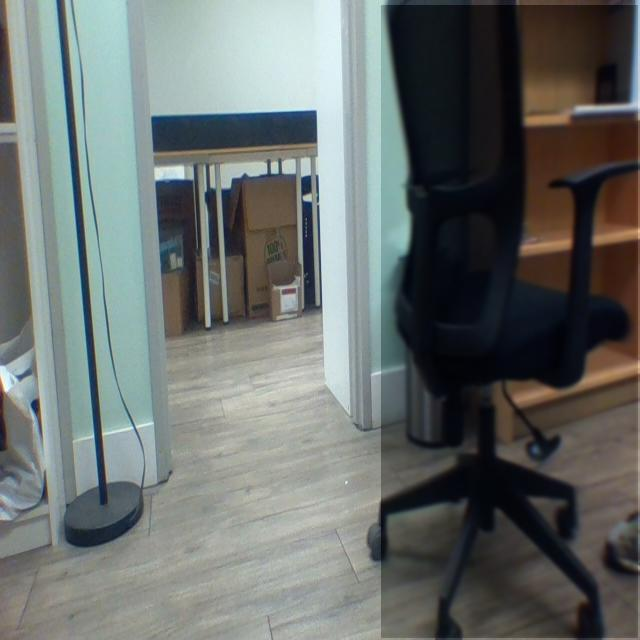black-chair: (381, 5, 639, 639)
